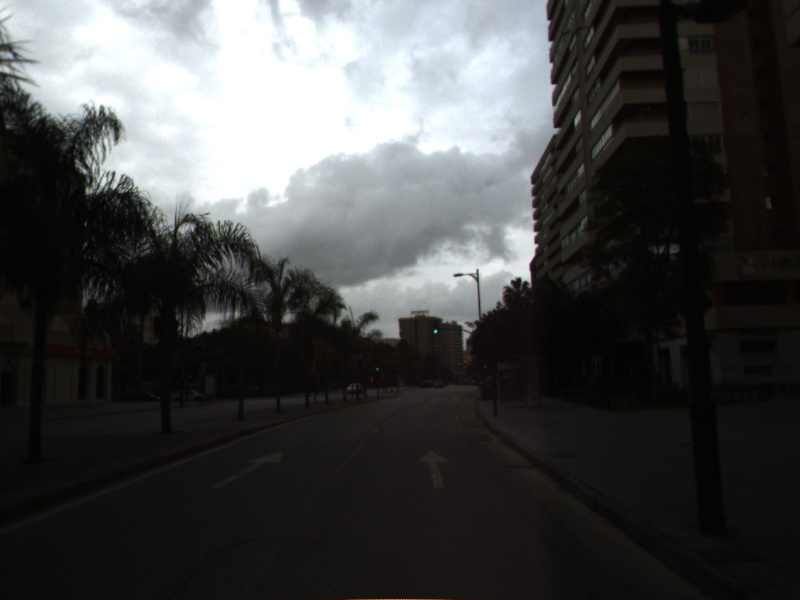STRAIGHT: (209, 450, 284, 490), (415, 448, 453, 490)
